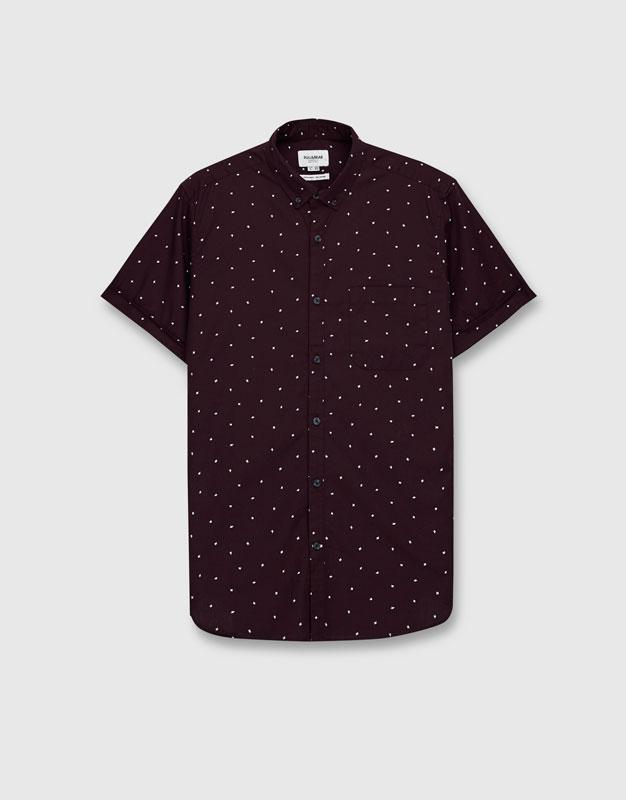teeshirt: (102, 118, 555, 659)
